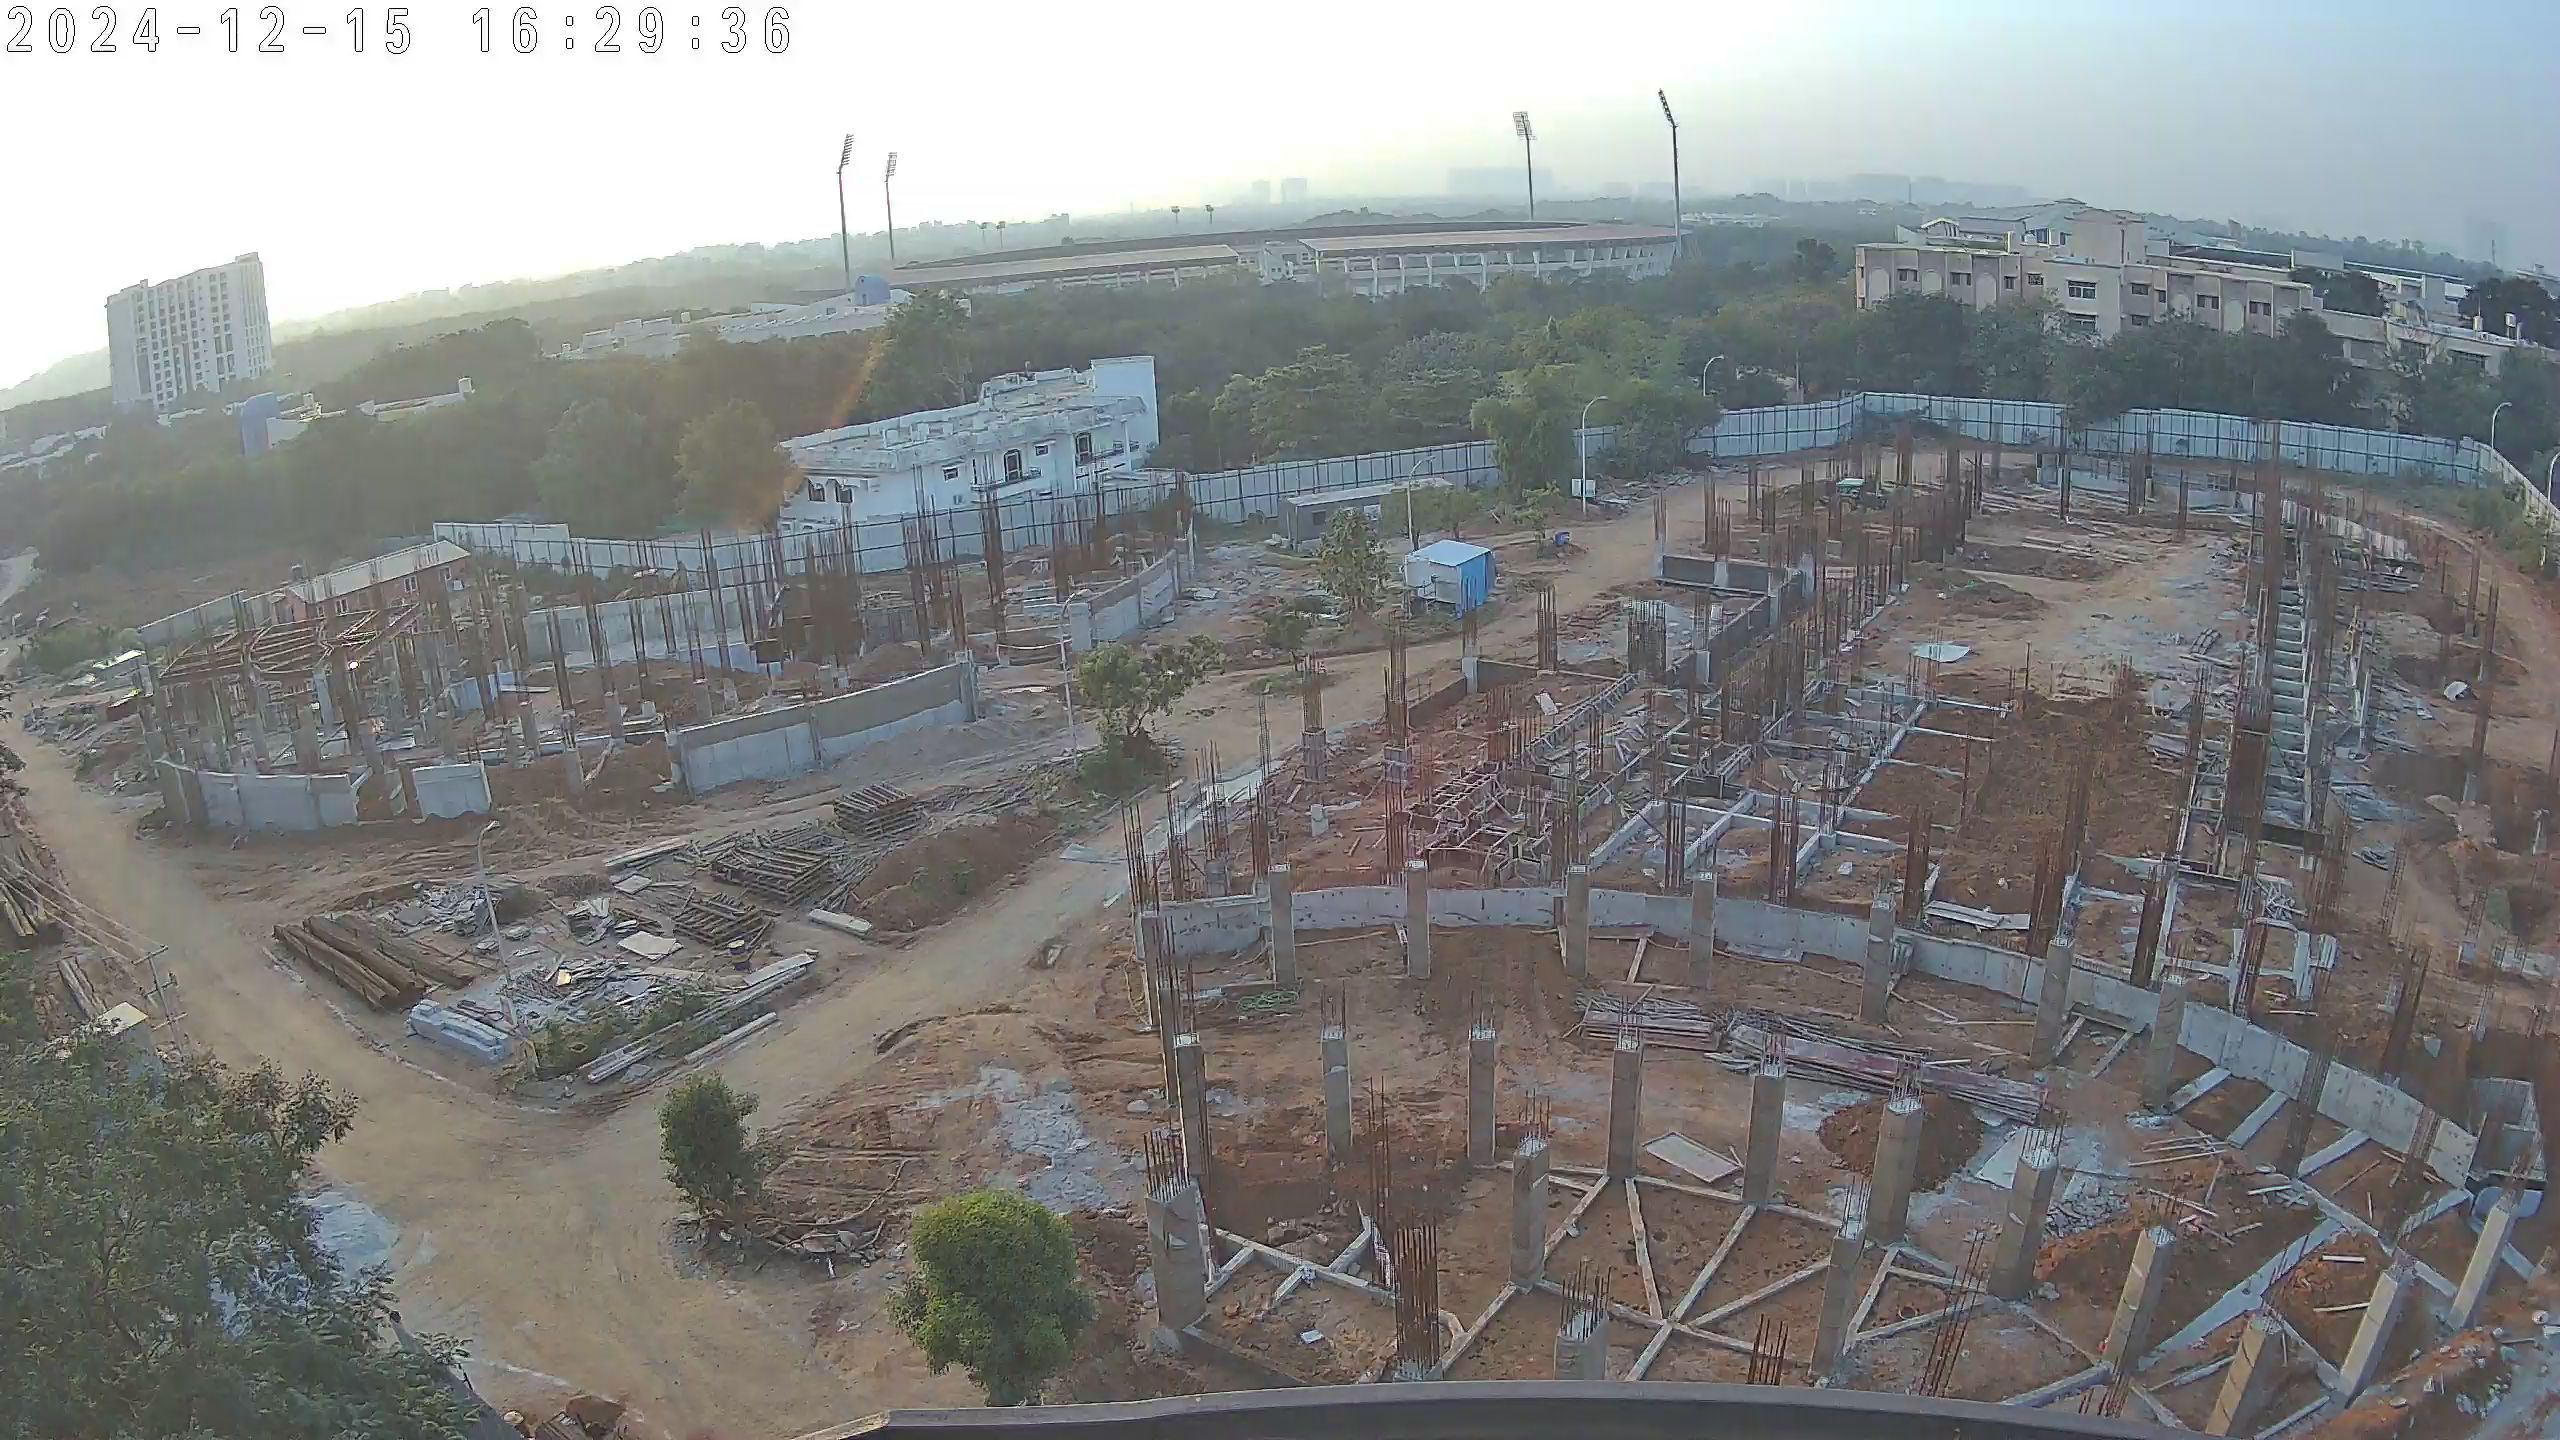truck: (1822, 475, 1885, 519)
